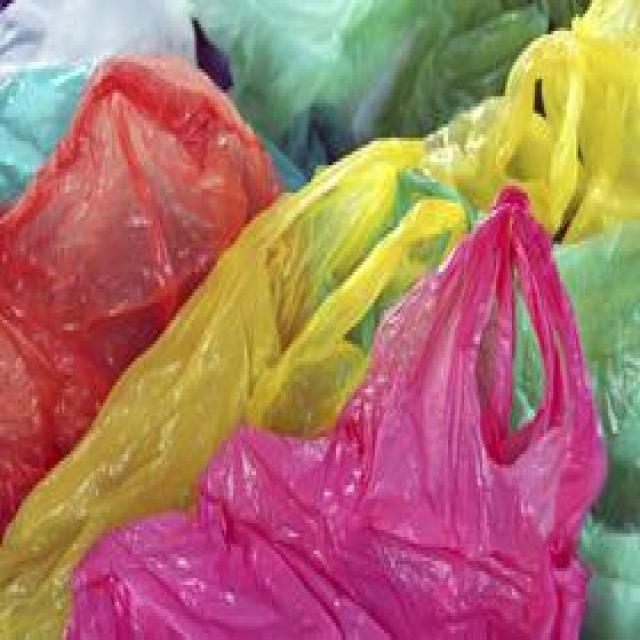plastic_bag: (60, 177, 622, 637)
